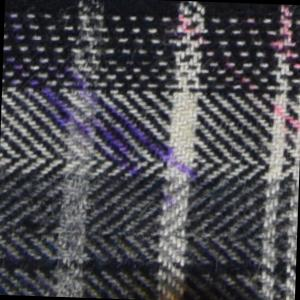Stain: (1, 21, 227, 214), (174, 2, 300, 139), (148, 272, 208, 300)
